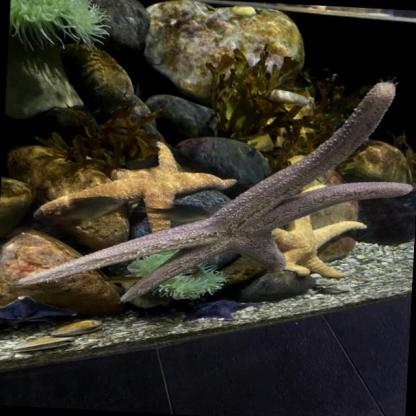starfish: (15, 62, 416, 318), (32, 135, 240, 238), (270, 182, 370, 280), (0, 294, 79, 333), (169, 296, 268, 327)
